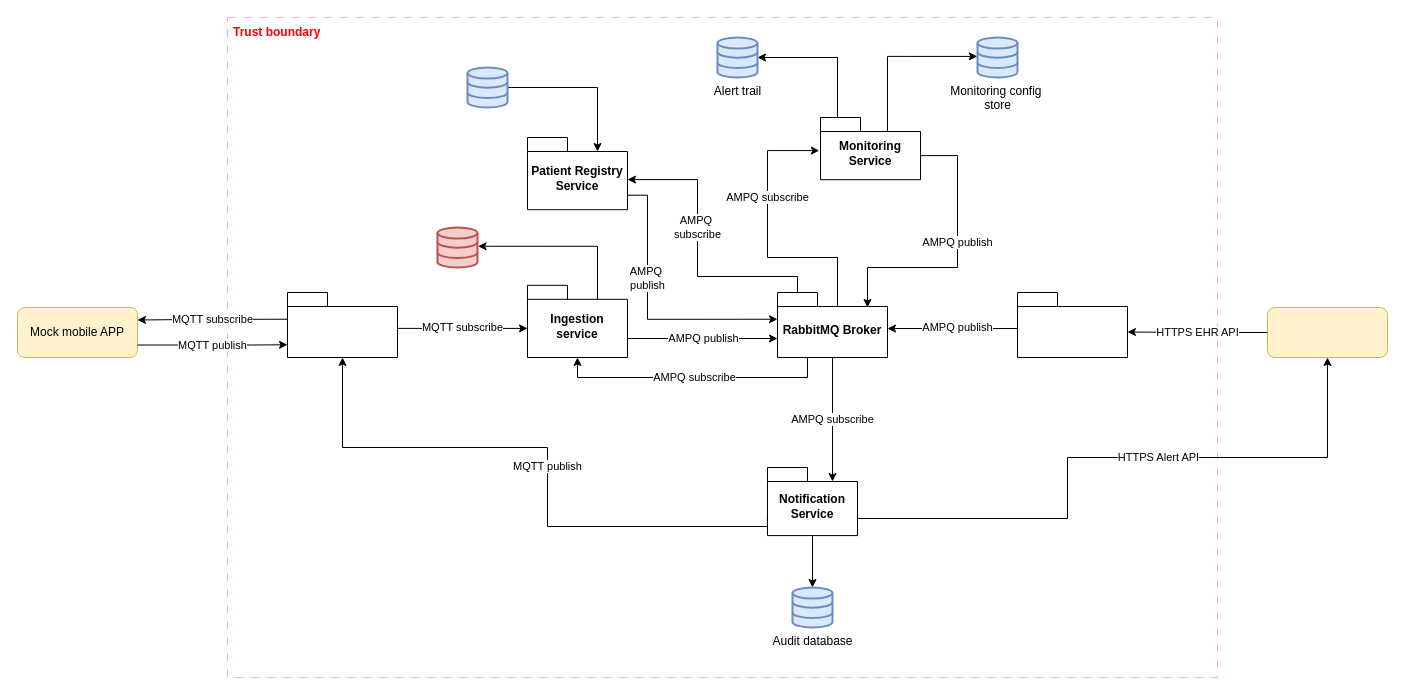
Some shapes in this 1405 by 695 pixel diagram are drawn without their labels. The centre of each missing label's shape, as x and y in pixels:
"EHR Integration Service" goes at pixel 1072 325.
"Mock EHR" goes at pixel 1327 332.
"MQTTnet Broker" goes at pixel 342 325.
"Patient config store" goes at pixel 487 87.
"Redis cache" goes at pixel 457 247.
